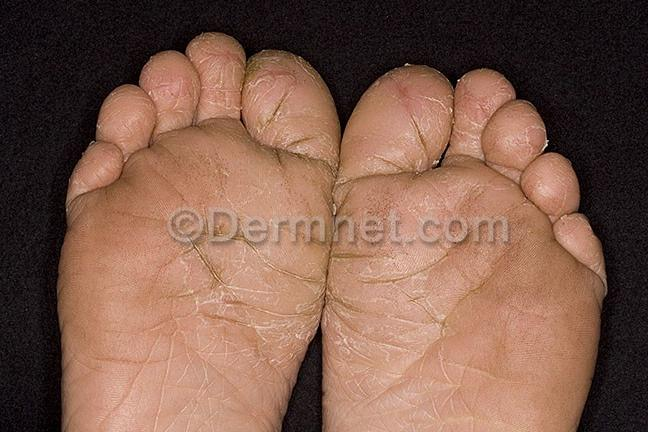liquenificacion 1: (158, 270, 234, 432), (356, 366, 494, 432)
xerosis 3: (150, 32, 547, 376)
